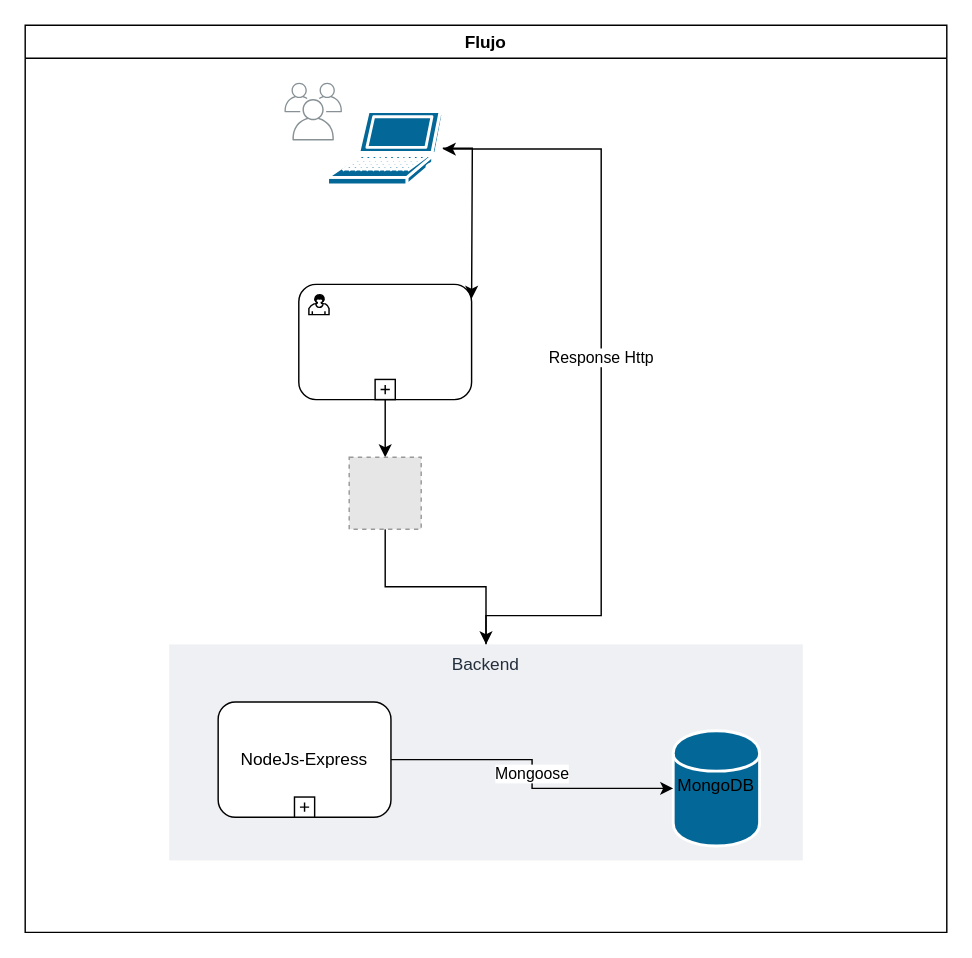
Image size: 972x958. Some labels were removed from this diagram. Grey dashed boxes stand in for pictures. The shapes that lost their labels are listed below. From the top down, each one's centre as x and y in pixels, then its label:
At (312,111): "users".
At (384,341): "Frontend".
